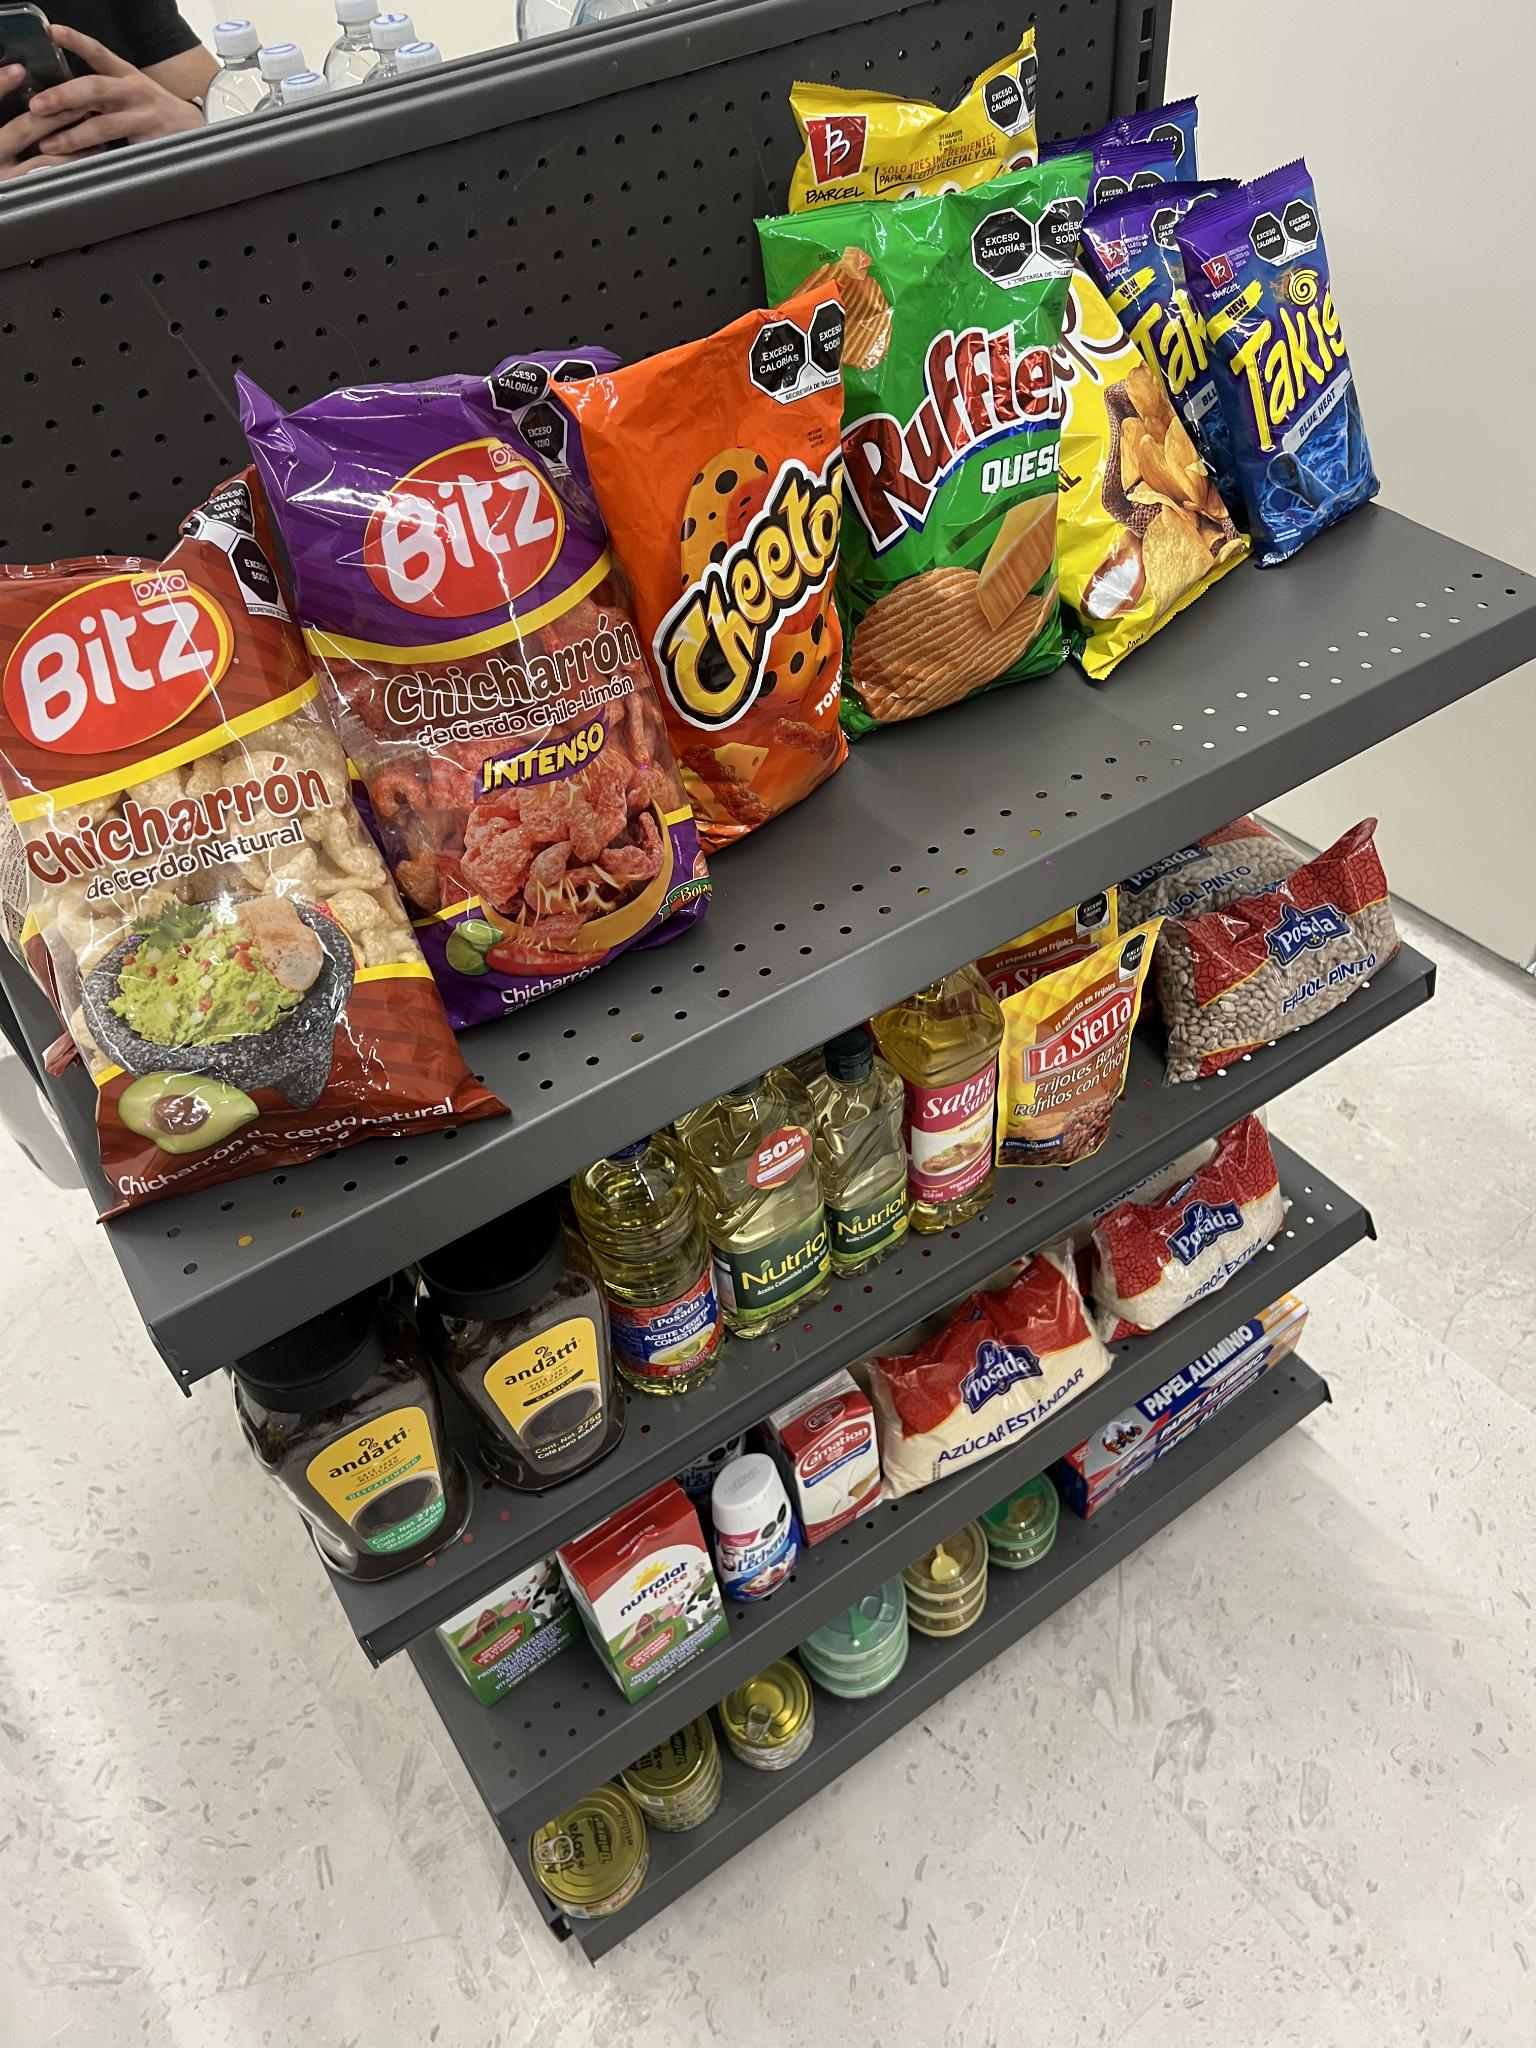aceite_nutrioli_400ml: (824, 1026, 912, 1266)
aceite_nutrioli_850ml: (721, 1066, 826, 1329)
aceite_posada: (599, 1129, 713, 1400)
aceite_saborsano: (913, 968, 1002, 1242)
andatti: (227, 1305, 452, 1563), (421, 1229, 607, 1479)
arroz_laposada: (1078, 1171, 1305, 1317)
atun_dolores_blanco: (802, 1574, 912, 1698)
atun_dolores_masdos: (532, 1795, 644, 1921)
atun_dolores_naranja: (905, 1522, 991, 1637)
atun_dolores_normal: (623, 1714, 721, 1845)
atun_mazatun: (716, 1674, 816, 1767)
atun_mazatun_verde: (978, 1472, 1065, 1569)
azucar_laposada: (873, 1238, 1121, 1521)
carnation: (786, 1422, 887, 1538)
cheetos: (579, 293, 860, 850)
chicharron_bitz_intenso: (245, 361, 723, 1026)
chicharron_bitz_natural: (0, 476, 495, 1226)
chips_sal: (1078, 276, 1250, 676)
frijol_laposada: (1160, 914, 1426, 1045)
frijol_lasierra: (1000, 919, 1160, 1193)
lalechera: (712, 1474, 797, 1593)
leche_nutralatforte: (573, 1540, 726, 1675), (423, 1593, 574, 1706)
papel_aluminio: (1089, 1313, 1309, 1519)
ruffles: (841, 160, 1081, 727)
takis: (1176, 163, 1386, 572)
